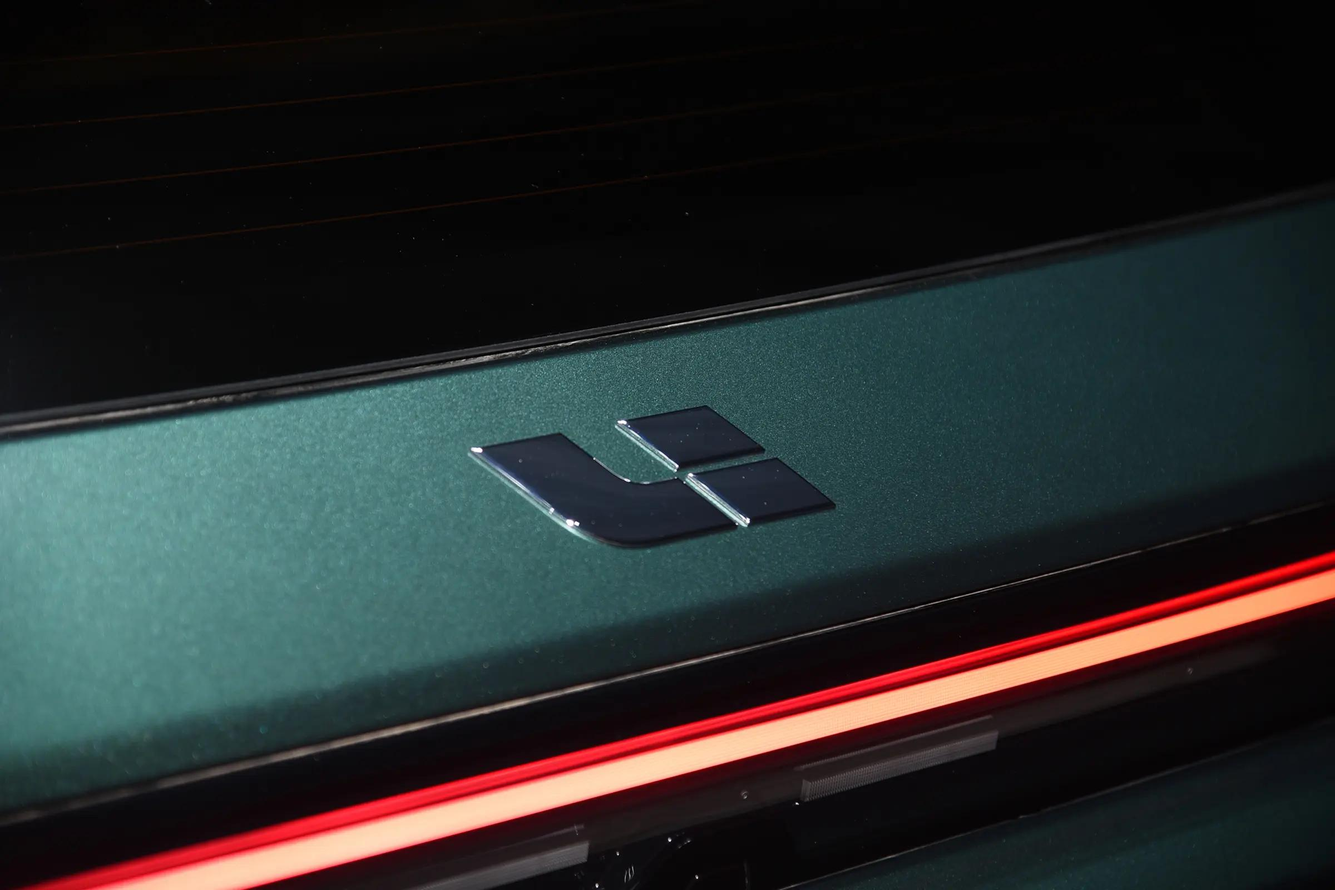Li Auto: (469, 405, 838, 548)
